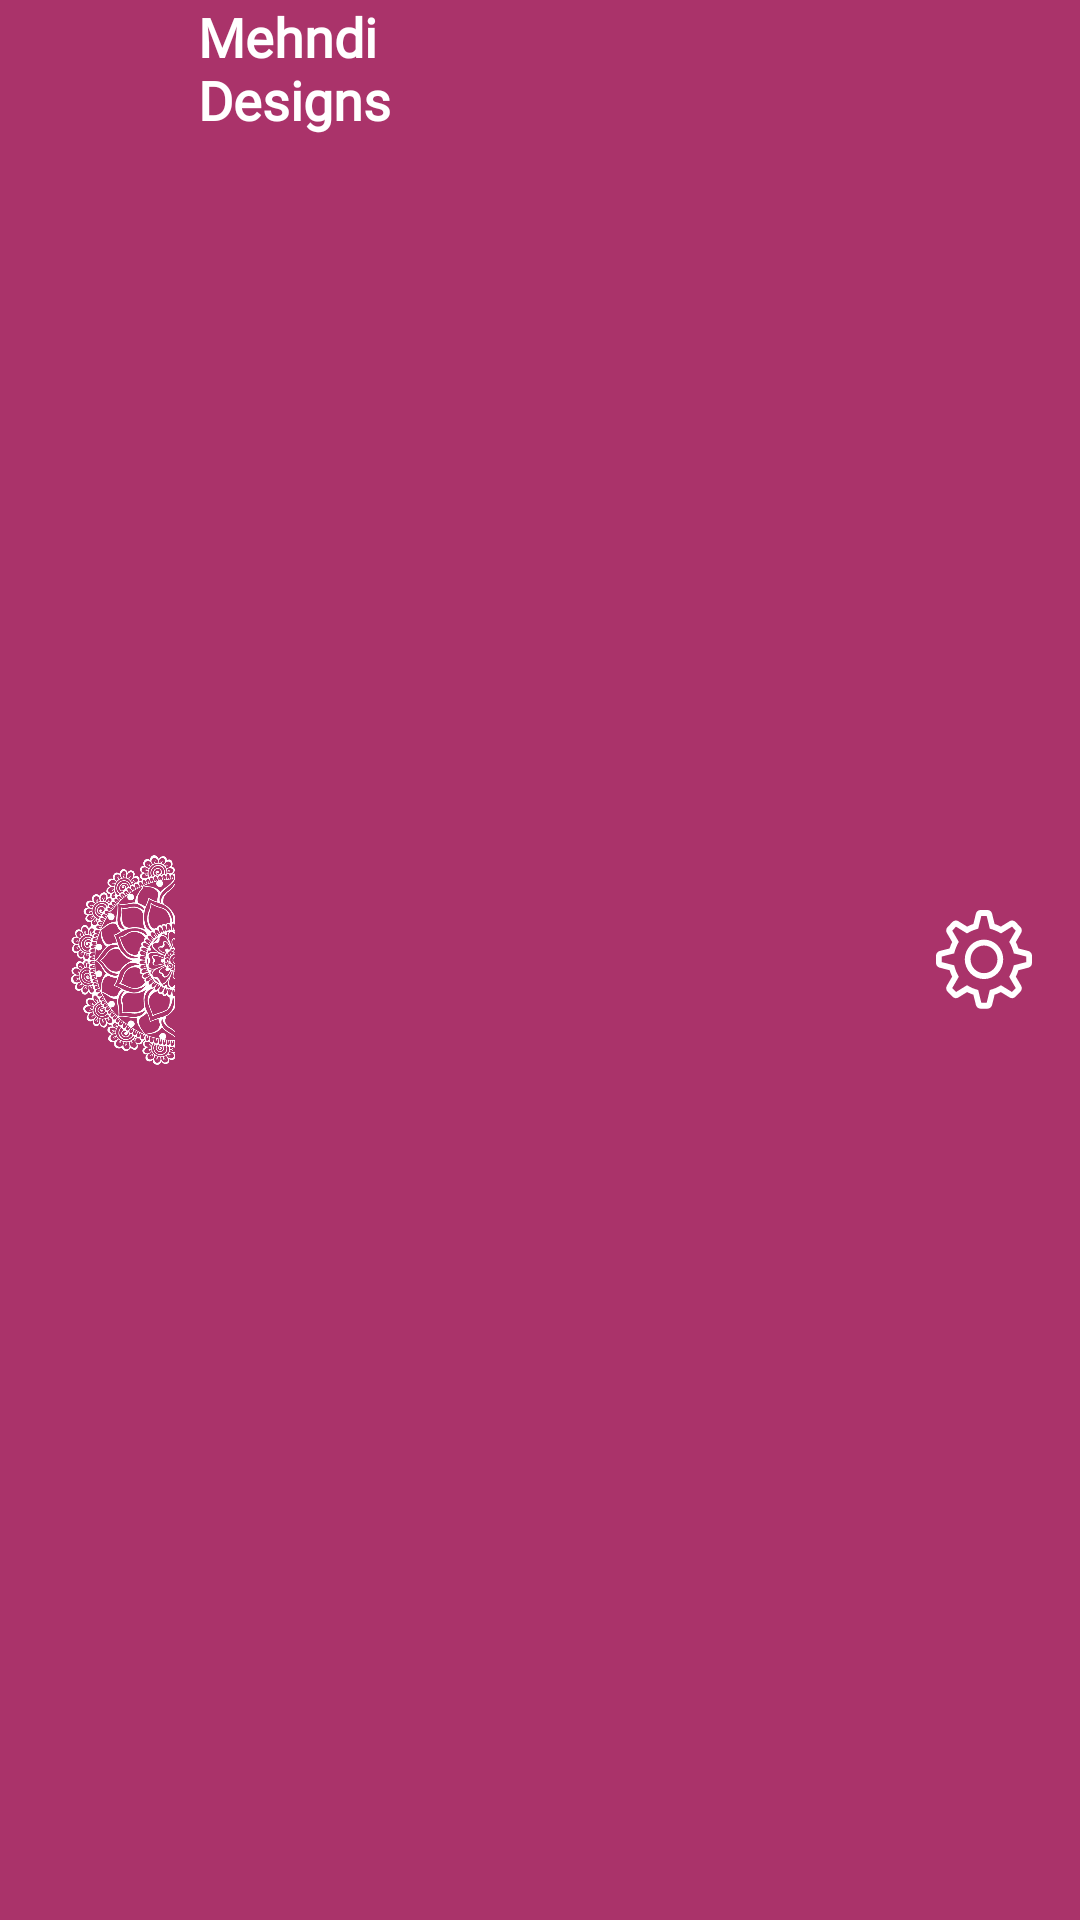

Screen size 1080px x 1920px. Icon name, then its center in pixels as (x,y):
setting: (984,959)
